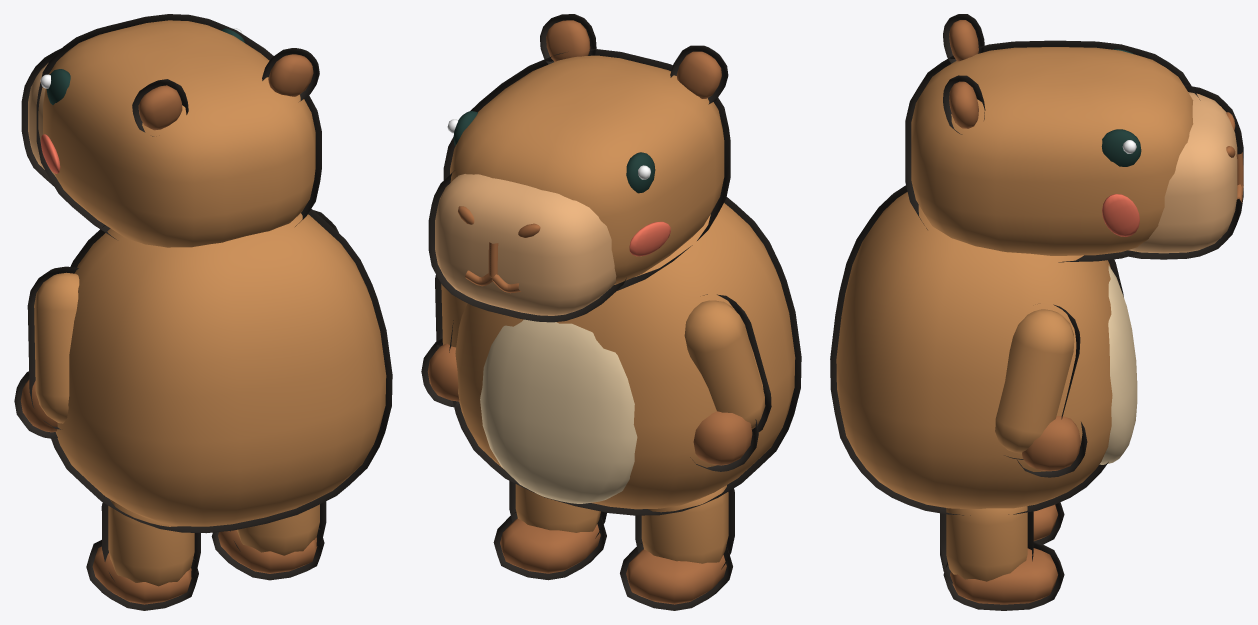
File: capybara.glb
The picture shows the model from 3 angles, left to right: view 1: azimuth 30°, elevation 25°; view 2: azimuth 150°, elevation 25°; view 3: azimuth 270°, elevation 25°; orthographic projection. The views are drawn at different scales.
Parts seen in each view (by area): view 1: Torso_fur, Head_fur, Head_detail, LeftArm_fur, LeftLeg_fur, Torso_detail, Head_furDark, RightLeg_fur, LeftLeg_furDark, RightLeg_furDark, LeftLeg_detail, LeftArm_detail (+4 smaller); view 2: Head_fur, Torso_fur, Torso_belly, Head_snout, Head_detail, LeftArm_fur, LeftLeg_fur, Torso_detail, LeftLeg_furDark, RightLeg_furDark, Head_furDark, LeftArm_furDark (+8 smaller); view 3: Torso_fur, Head_fur, Head_snout, RightArm_fur, Head_detail, RightLeg_fur, Torso_belly, Torso_detail, RightLeg_furDark, RightArm_furDark, Head_furDark, RightLeg_detail (+3 smaller).
Part boxes in pixels (x1,y1,x2,y2): Torso_fur: [56, 213, 386, 526]; Head_fur: [43, 20, 315, 247]; Head_detail: [21, 14, 321, 239]; LeftArm_fur: [34, 272, 79, 423]; LeftLeg_fur: [108, 499, 194, 586]; Torso_detail: [51, 209, 392, 533]; Head_furDark: [138, 54, 313, 130]; RightLeg_fur: [236, 504, 319, 555]; LeftLeg_furDark: [92, 546, 191, 604]; RightLeg_furDark: [218, 530, 317, 573]; LeftLeg_detail: [86, 495, 200, 610]; LeftArm_detail: [14, 266, 78, 438]; Head_fur: [450, 55, 724, 284]; Torso_fur: [455, 203, 795, 509]; Torso_belly: [480, 319, 637, 503]; Head_snout: [435, 174, 616, 315]; Head_detail: [428, 14, 730, 322]; LeftArm_fur: [684, 300, 765, 429]; LeftLeg_fur: [641, 485, 728, 563]; Torso_detail: [449, 197, 801, 515]; LeftLeg_furDark: [626, 549, 726, 604]; RightLeg_furDark: [500, 518, 600, 573]; Head_furDark: [546, 20, 721, 98]; LeftArm_furDark: [693, 411, 752, 465]; Torso_fur: [836, 192, 1112, 508]; Head_fur: [911, 47, 1193, 255]; Head_snout: [1128, 92, 1237, 253]; RightArm_fur: [995, 309, 1074, 453]; Head_detail: [905, 14, 1243, 262]; RightLeg_fur: [946, 506, 1027, 581]; Torso_belly: [1099, 265, 1137, 464]; Torso_detail: [830, 185, 1123, 515]; RightLeg_furDark: [950, 548, 1057, 604]; RightArm_furDark: [1022, 416, 1080, 471]; Head_furDark: [949, 20, 978, 128]; RightLeg_detail: [940, 505, 1064, 610].
Size of the model in its own units: 3.61 by 5.67 by 4.06.
14 materials, 1 textured.
